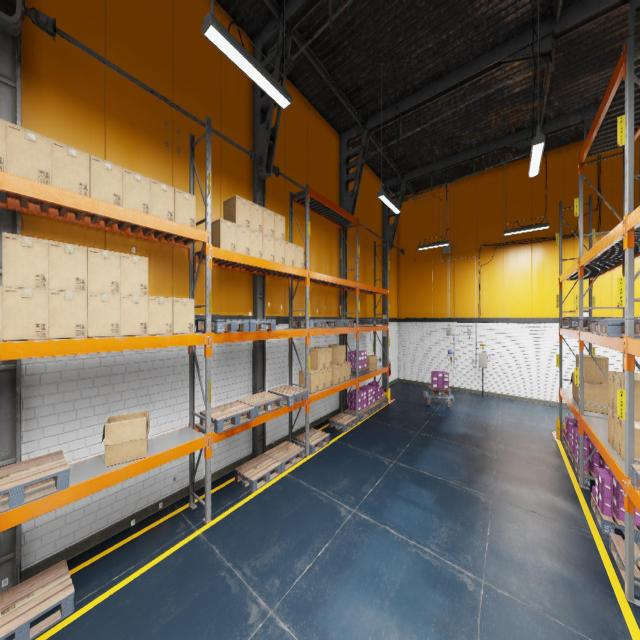box: (6, 121, 51, 185), (101, 410, 150, 467), (2, 232, 48, 289), (2, 287, 48, 341), (52, 138, 90, 196), (49, 240, 87, 292), (48, 290, 87, 339), (90, 154, 122, 206), (87, 247, 120, 294), (87, 292, 120, 337), (123, 167, 150, 215), (608, 371, 640, 411), (120, 252, 148, 296), (614, 374, 640, 421), (120, 295, 148, 336), (150, 178, 174, 221), (576, 354, 608, 384), (148, 296, 172, 335), (223, 194, 250, 228), (579, 382, 607, 414), (174, 188, 196, 227), (211, 218, 236, 252), (622, 420, 640, 465), (173, 298, 194, 334), (576, 381, 606, 405), (299, 368, 318, 394), (236, 224, 250, 255), (313, 347, 332, 368), (250, 201, 262, 233), (614, 412, 622, 458), (309, 348, 325, 370), (250, 229, 262, 258), (328, 345, 346, 364), (263, 207, 274, 237), (0, 118, 6, 172), (263, 234, 274, 262), (274, 212, 284, 241), (274, 238, 284, 264), (608, 407, 614, 449), (285, 241, 294, 266), (336, 363, 346, 383), (295, 245, 303, 268), (332, 364, 340, 385), (367, 355, 377, 371), (319, 368, 325, 391), (326, 367, 332, 388), (0, 286, 2, 340), (570, 372, 574, 394), (346, 362, 350, 381), (573, 376, 575, 401)
pallets: (0, 559, 74, 639), (0, 451, 70, 514), (590, 492, 640, 544), (609, 532, 640, 597), (235, 453, 281, 492), (200, 401, 254, 433), (264, 441, 304, 472), (236, 392, 282, 417), (294, 428, 330, 454), (268, 385, 308, 406), (598, 319, 640, 337), (196, 319, 249, 333), (574, 457, 595, 486), (329, 412, 357, 432), (565, 317, 612, 327), (239, 319, 275, 332), (592, 320, 624, 334), (345, 407, 371, 421), (427, 385, 451, 397), (292, 320, 326, 328), (631, 464, 640, 490), (366, 401, 380, 414), (320, 319, 340, 328), (351, 368, 369, 377), (375, 396, 388, 408), (333, 320, 354, 327), (560, 318, 578, 326), (356, 318, 380, 324), (568, 444, 574, 466), (562, 432, 568, 452), (380, 318, 387, 324), (588, 319, 591, 332)
